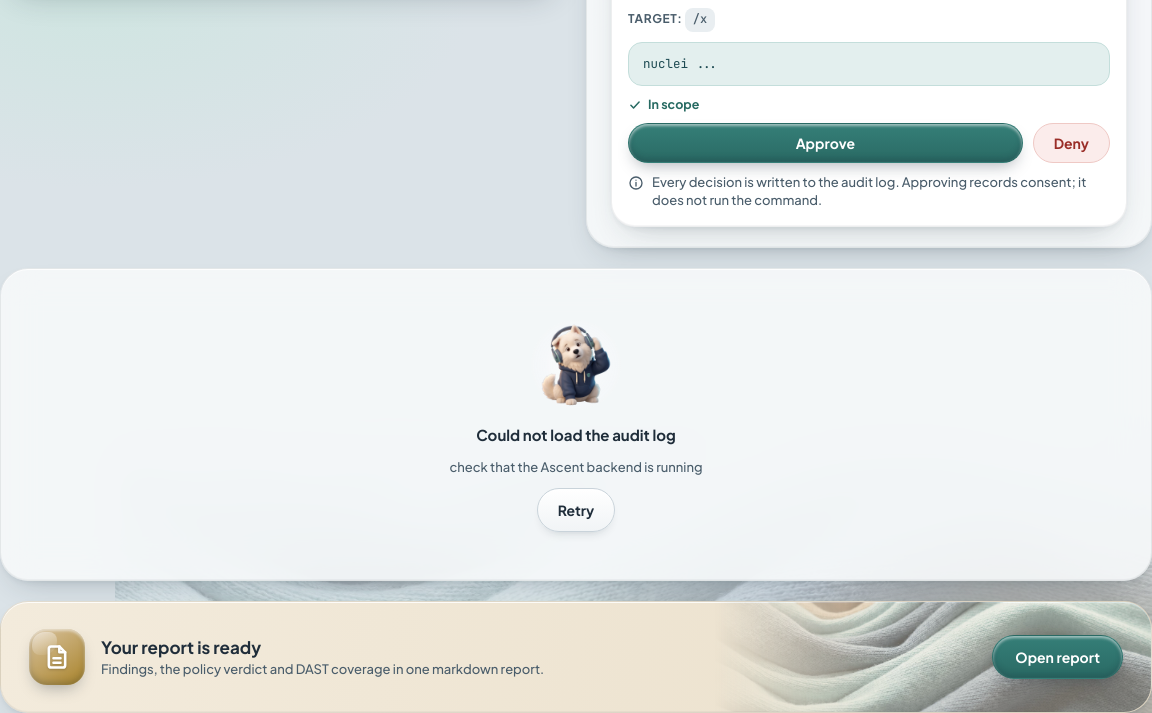
Test: recent audit: a failure is a card alert with Retry
The width and height of the screenshot is (1152, 713).
(page scrolled)
Expected: the text "Could not load the audit log" is shown, top-left (476, 425), bottom-right (676, 446)
Click the button "Retry". click: {"x": 576, "y": 510}
box: top-left (537, 488), bottom-right (615, 532)
(page scrolled)
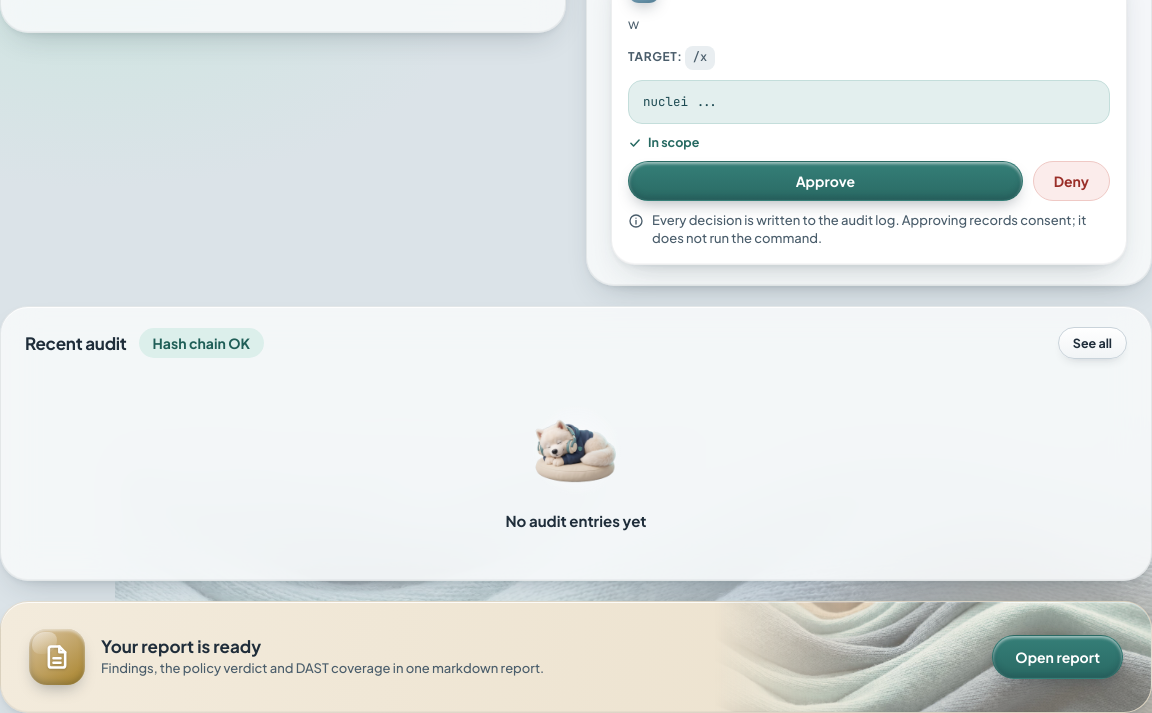
Expected: the text "Hash chain OK" is shown, top-left (139, 328), bottom-right (264, 358)
